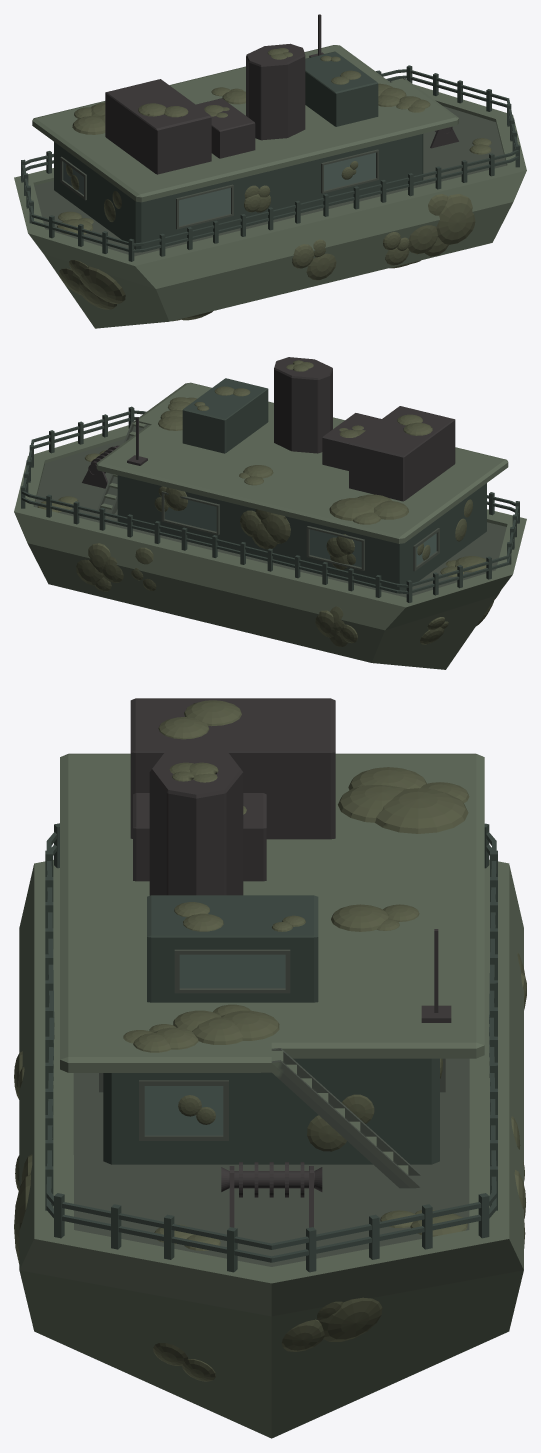
Rendered from SubmergedShip.fbx.
3 renders of one model, top to bottom at view 1: azimuth 30°, elevation 25°; view 2: azimuth 150°, elevation 25°; view 3: azimuth 270°, elevation 25°, orthographic. The views are drawn at different scales.
Parts seen in each view (by area): view 1: SubmergedShip; view 2: SubmergedShip; view 3: SubmergedShip.
Boxes of the visible parts, left/top/right/bottom form: SubmergedShip: left=14, top=14, right=526, bottom=328; SubmergedShip: left=14, top=357, right=526, bottom=669; SubmergedShip: left=14, top=698, right=526, bottom=1438.
Size of the model in its own units: 3613 by 1787 by 1686.
